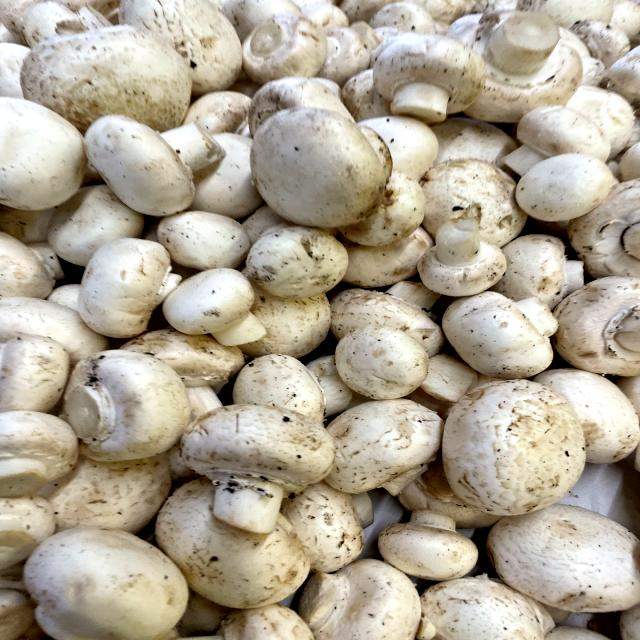mushroom: (172, 397, 339, 541), (76, 103, 235, 225), (49, 341, 198, 469), (311, 394, 458, 513), (437, 281, 579, 386), (361, 23, 488, 131), (59, 236, 182, 340), (156, 260, 281, 352), (369, 496, 488, 586), (414, 201, 514, 296)
